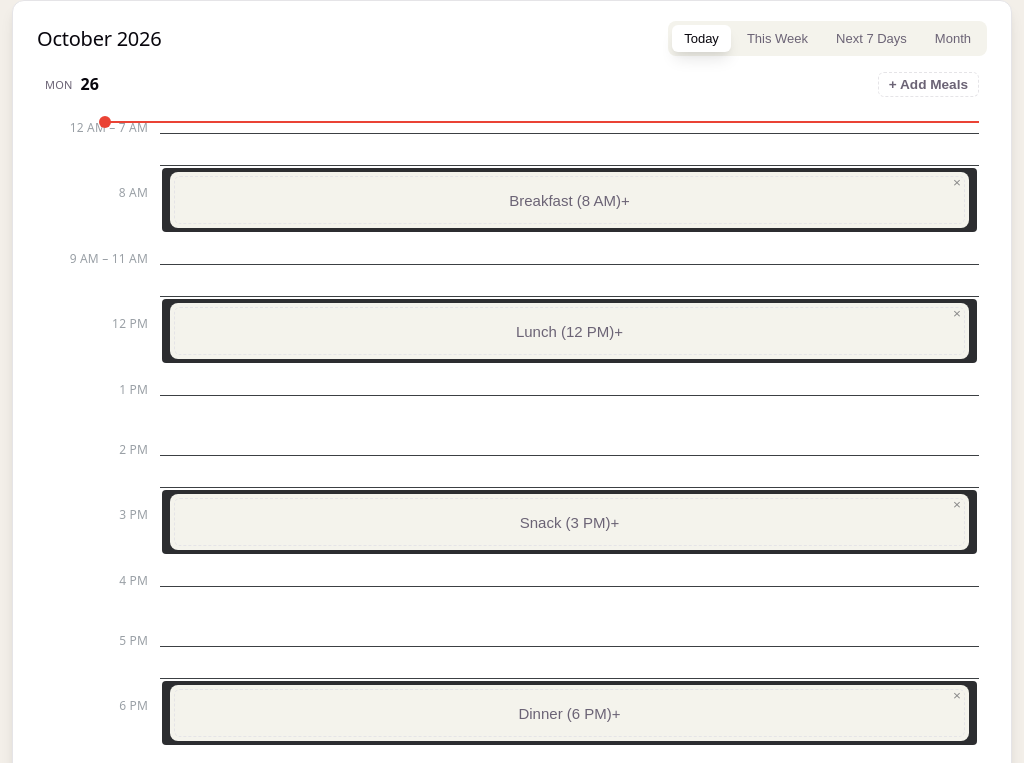
CalendarPanel View Strategies & Timeline Compression › switches between Today, This Week, Next 7 Days, and Month views using VIEW_STRATEGIES
Plan a meal on Today so Month view renders a meal-dot indicator
Step 1. Click the button with aria-label "Add Breakfast for" → (570, 200), box [174,176,965,224]
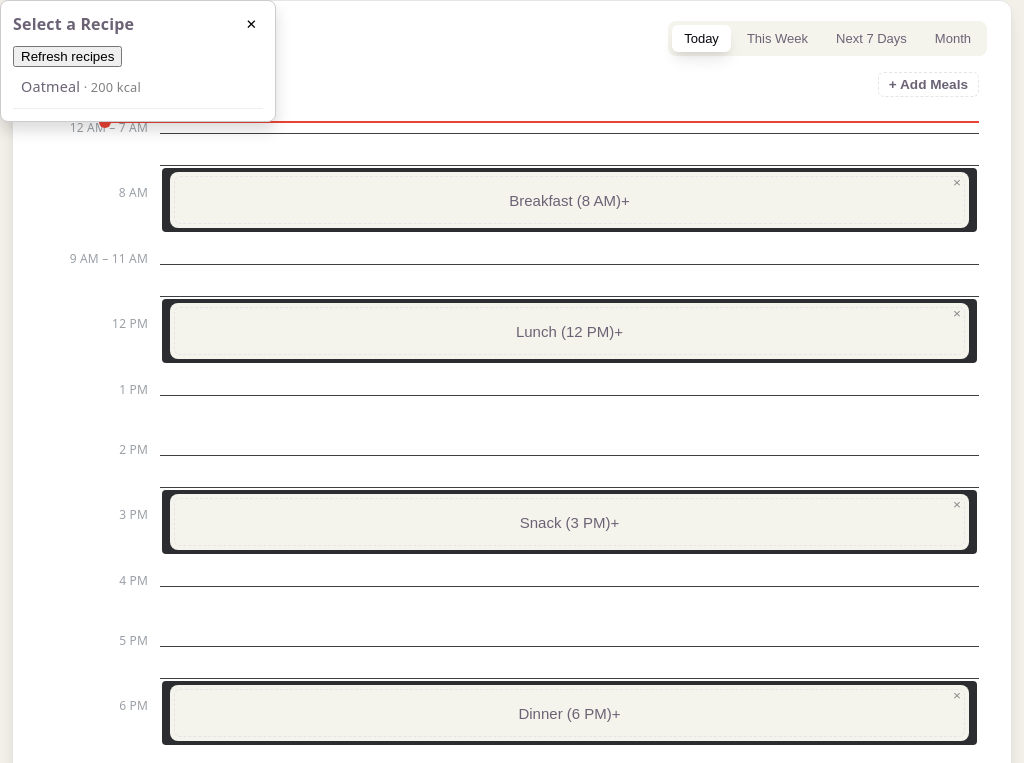
Step 2. Click the list item "Oatmeal" → (138, 88), box [13,67,263,109]
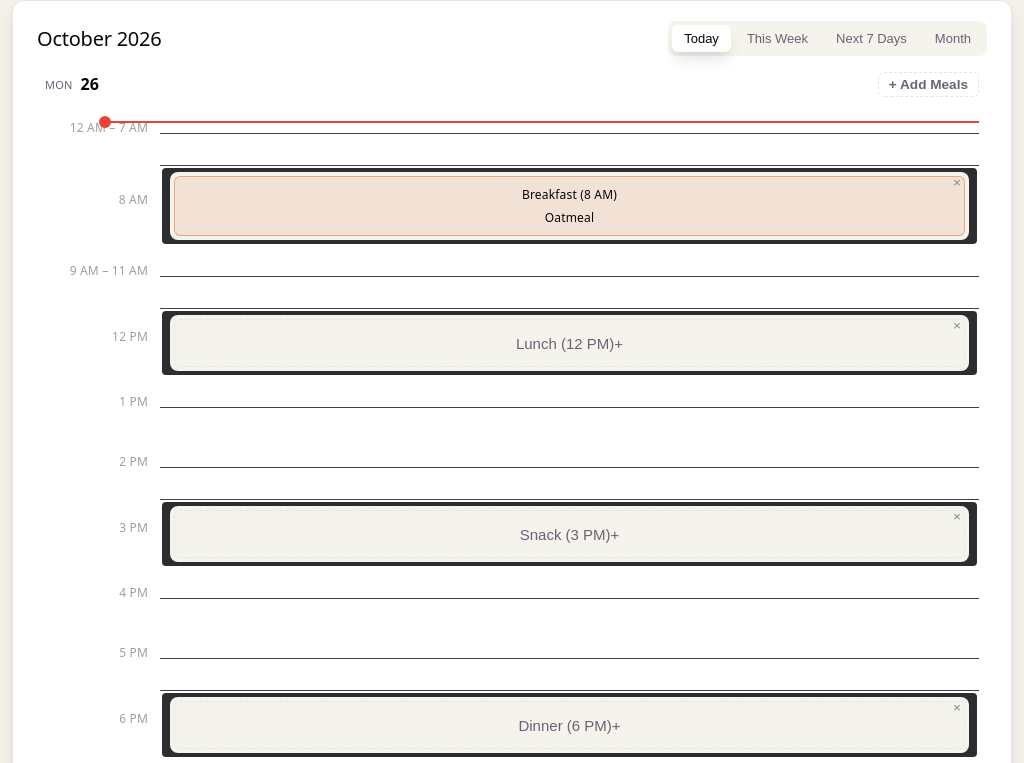
Switch to This Week view
Step 3. Click the button "This Week" → (778, 38), box [735,25,820,52]
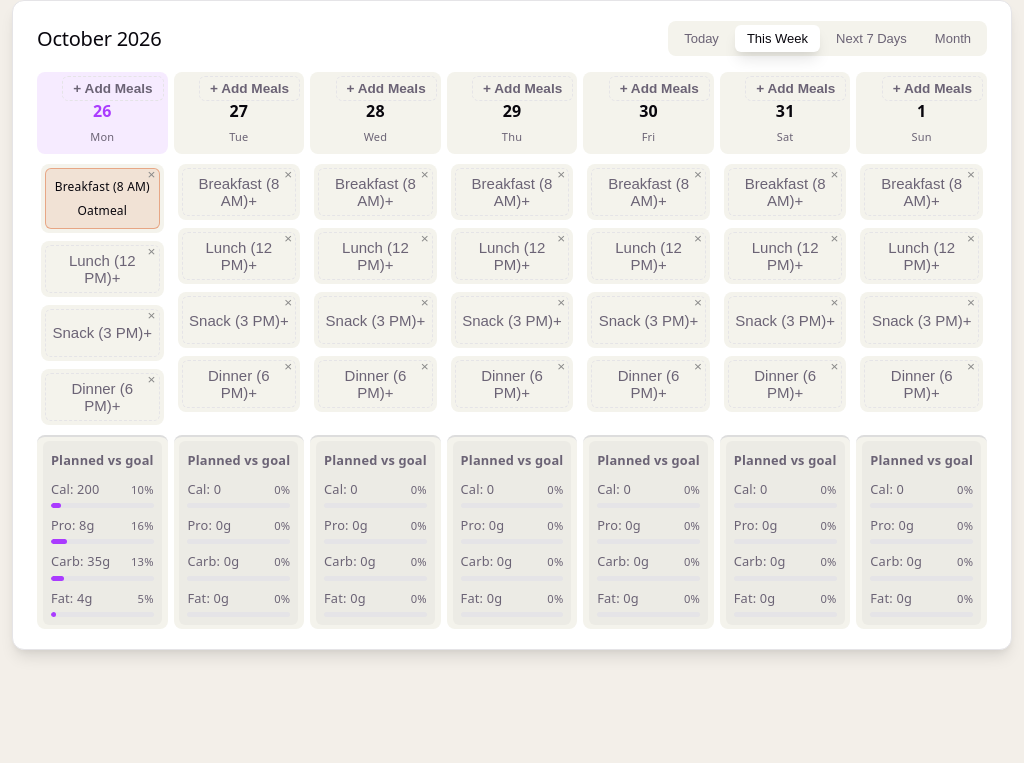
Now the number of buttons named "Add meals for" is 7
Switch to Next 7 Days view
Step 4. Click the button "Next 7 Days" → (871, 38), box [824,25,919,52]
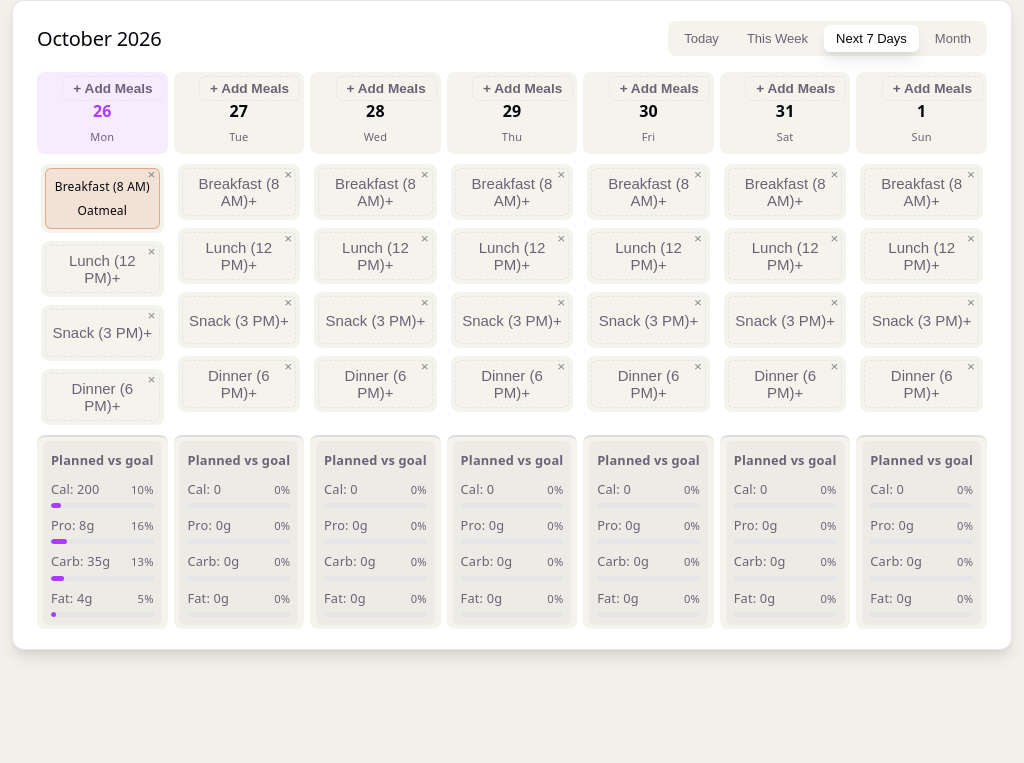
Now the number of buttons named "Add meals for" is 7
Switch to Month view
Step 5. Click the button "Month" → (953, 38), box [923,25,983,52]
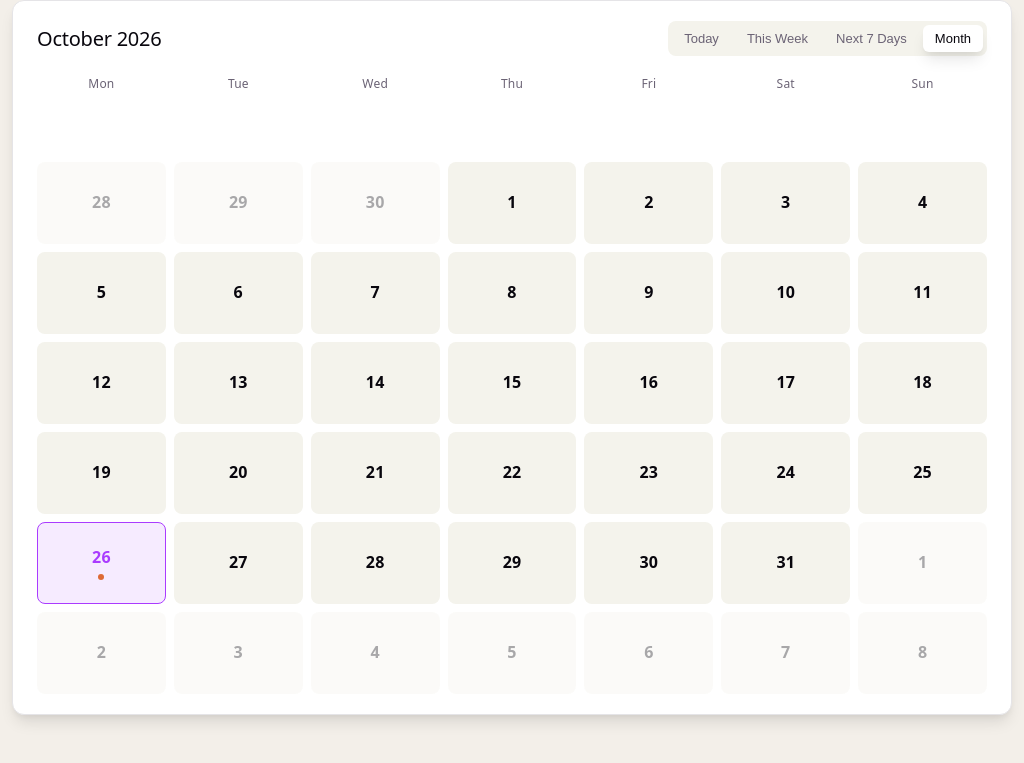
Expected: the text "Mon" is shown, [88,75,114,92]
Now the text "Sun" is shown, box [912,75,934,92]
Now the element with class "meal-dot" is shown, box [98,574,104,580]
